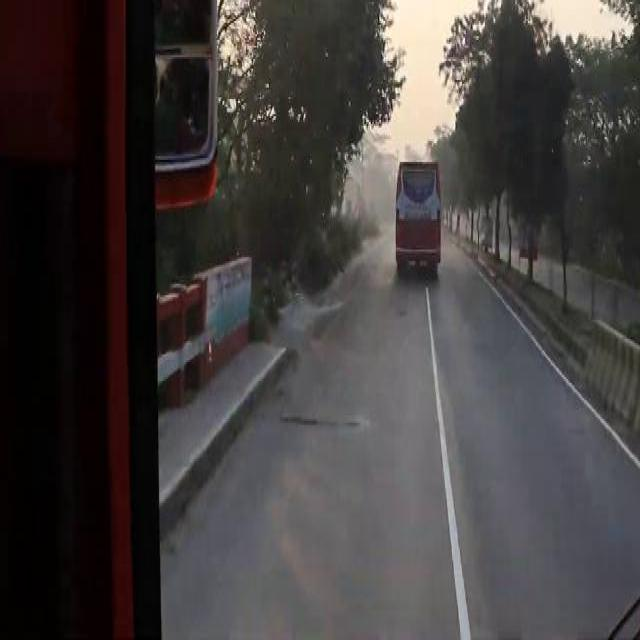bus: (394, 154, 440, 270)
